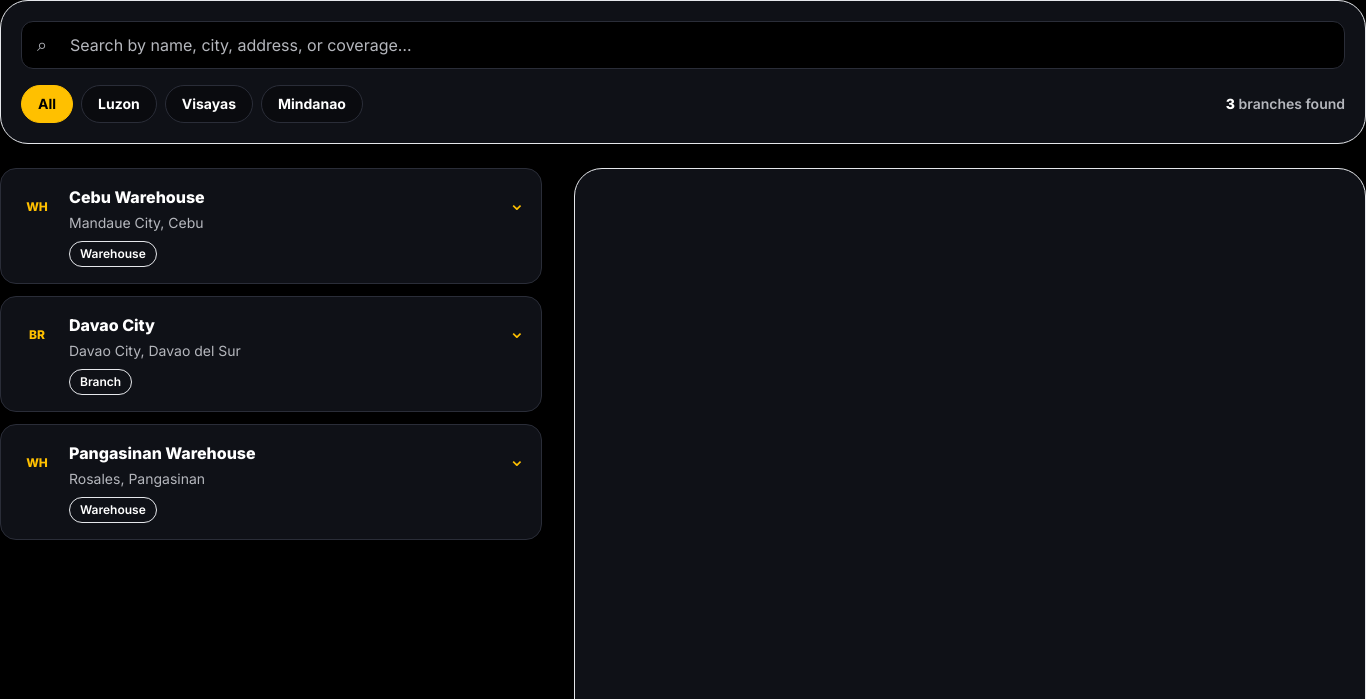
Test: BranchLocator › expands contact details and exposes telephone, email, and directions actions
Click the button "WH Cebu Warehouse Mandaue City, Cebu Warehouse ⌄" at coordinates (137, 197), box top-left (1, 169), bottom-right (541, 283)
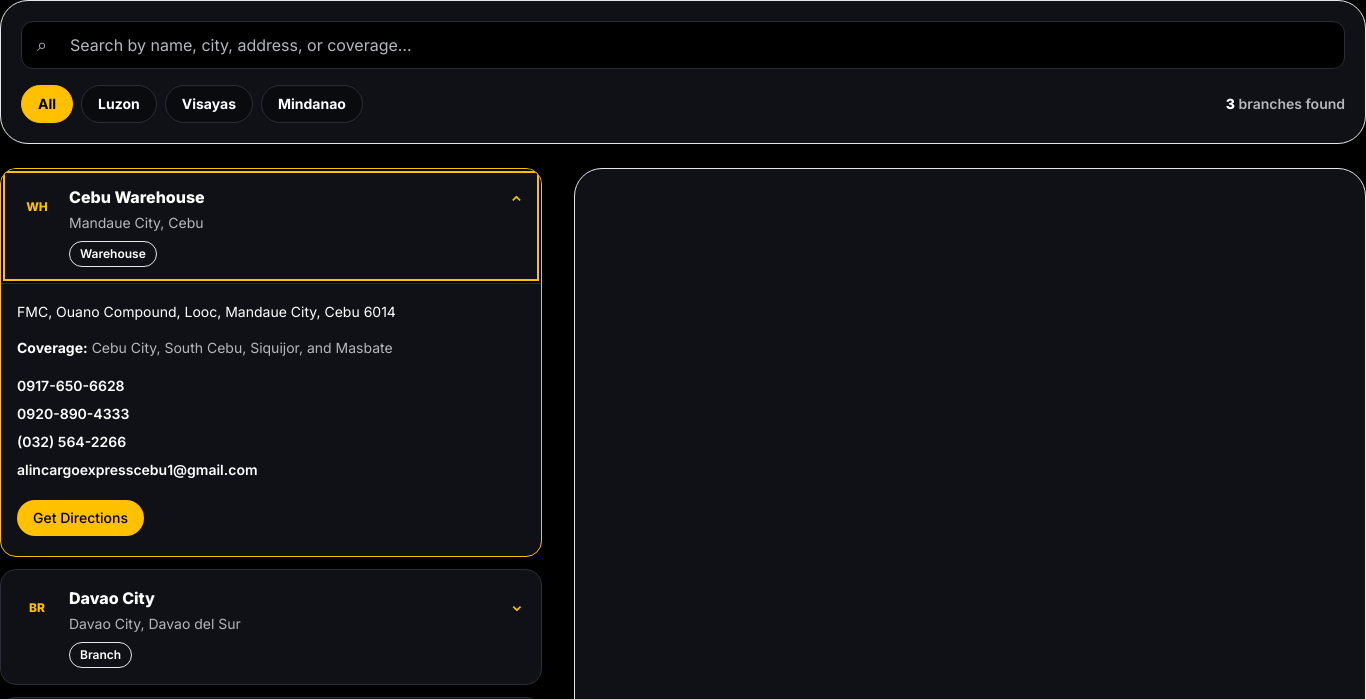
Now the text "FMC, Ouano Compound, Looc, Mandaue City, Cebu 6014" is shown, box top-left (17, 303), bottom-right (396, 320)
